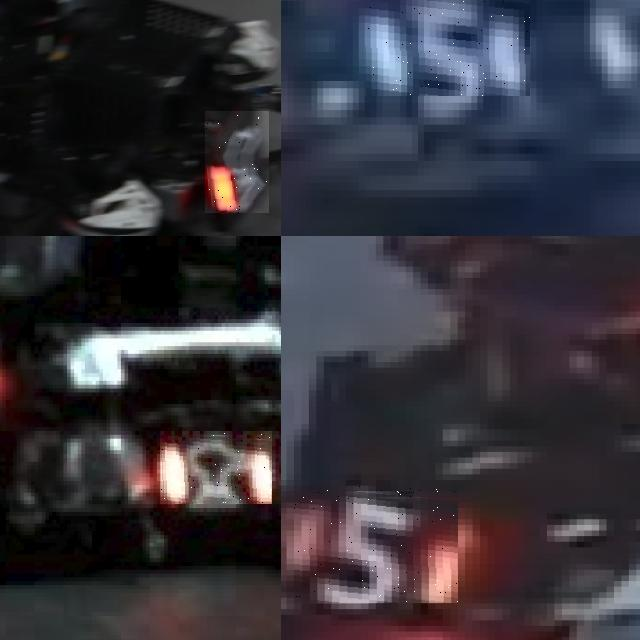B5: (364, 0, 530, 95)
R5: (294, 486, 458, 604)
Rs: (160, 431, 272, 504), (205, 111, 269, 213)
